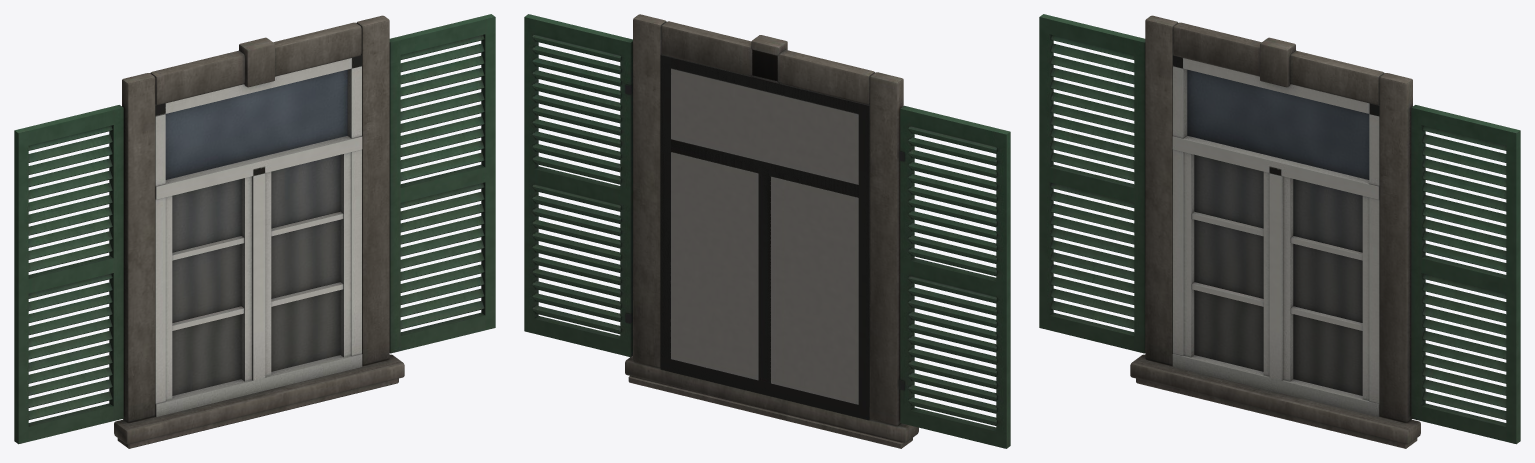
File: win_town_green.glb
3 renders of one model, left to right at view 1: azimuth 30°, elevation 25°; view 2: azimuth 150°, elevation 25°; view 3: azimuth 330°, elevation 25°, orthographic.
Parts seen in each view (by area): view 1: win_town_green; view 2: win_town_green; view 3: win_town_green.
Part boxes in pixels (x1,y1,x2,y2): win_town_green: (14,14,495,448); win_town_green: (524,14,1010,448); win_town_green: (1039,14,1520,448).
Bounding box in the file's own units: 2.36 × 1.74 × 0.1242.
Materials: 1 (1 with a texture image).
